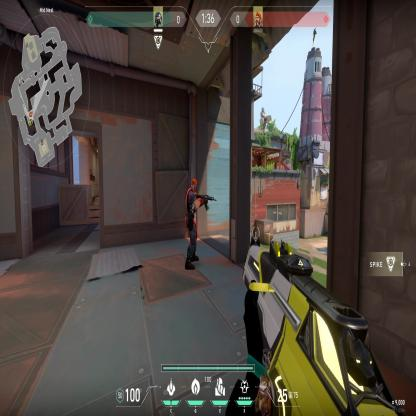enemy: (184, 176, 208, 271)
